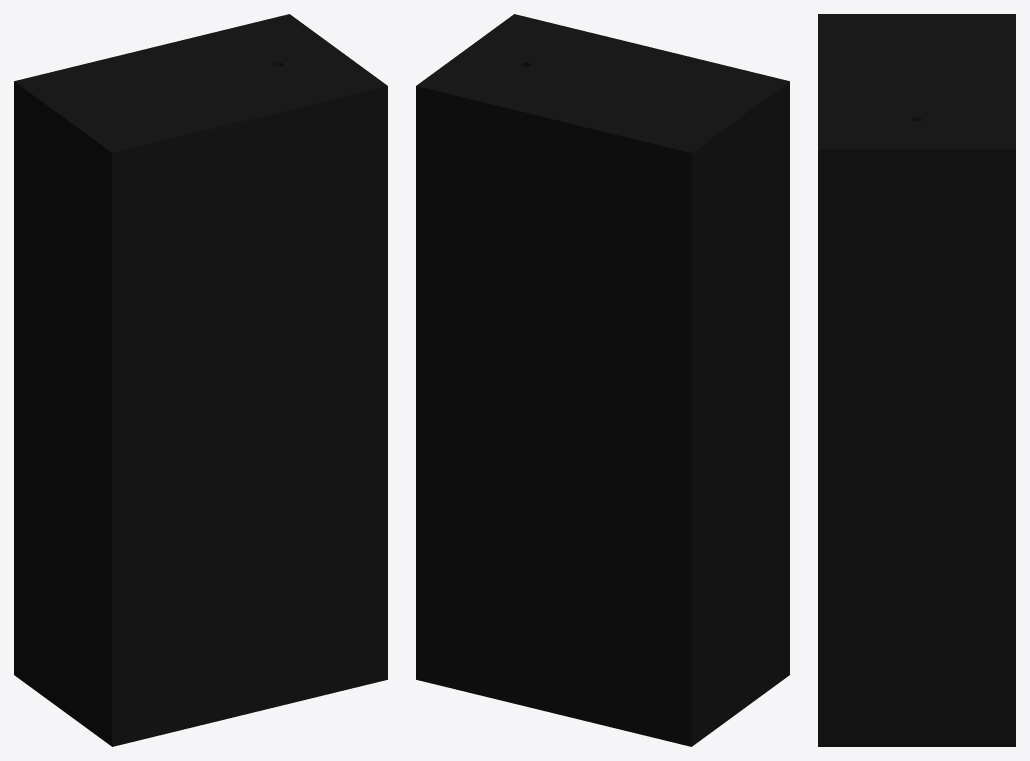
The model's file is enderman-0.obj.
3 renders of one model, left to right at view 1: azimuth 30°, elevation 25°; view 2: azimuth 150°, elevation 25°; view 3: azimuth 270°, elevation 25°, orthographic.
Size of the model in its own units: 3.4 by 7 by 2.1.
1 material, 1 textured.
